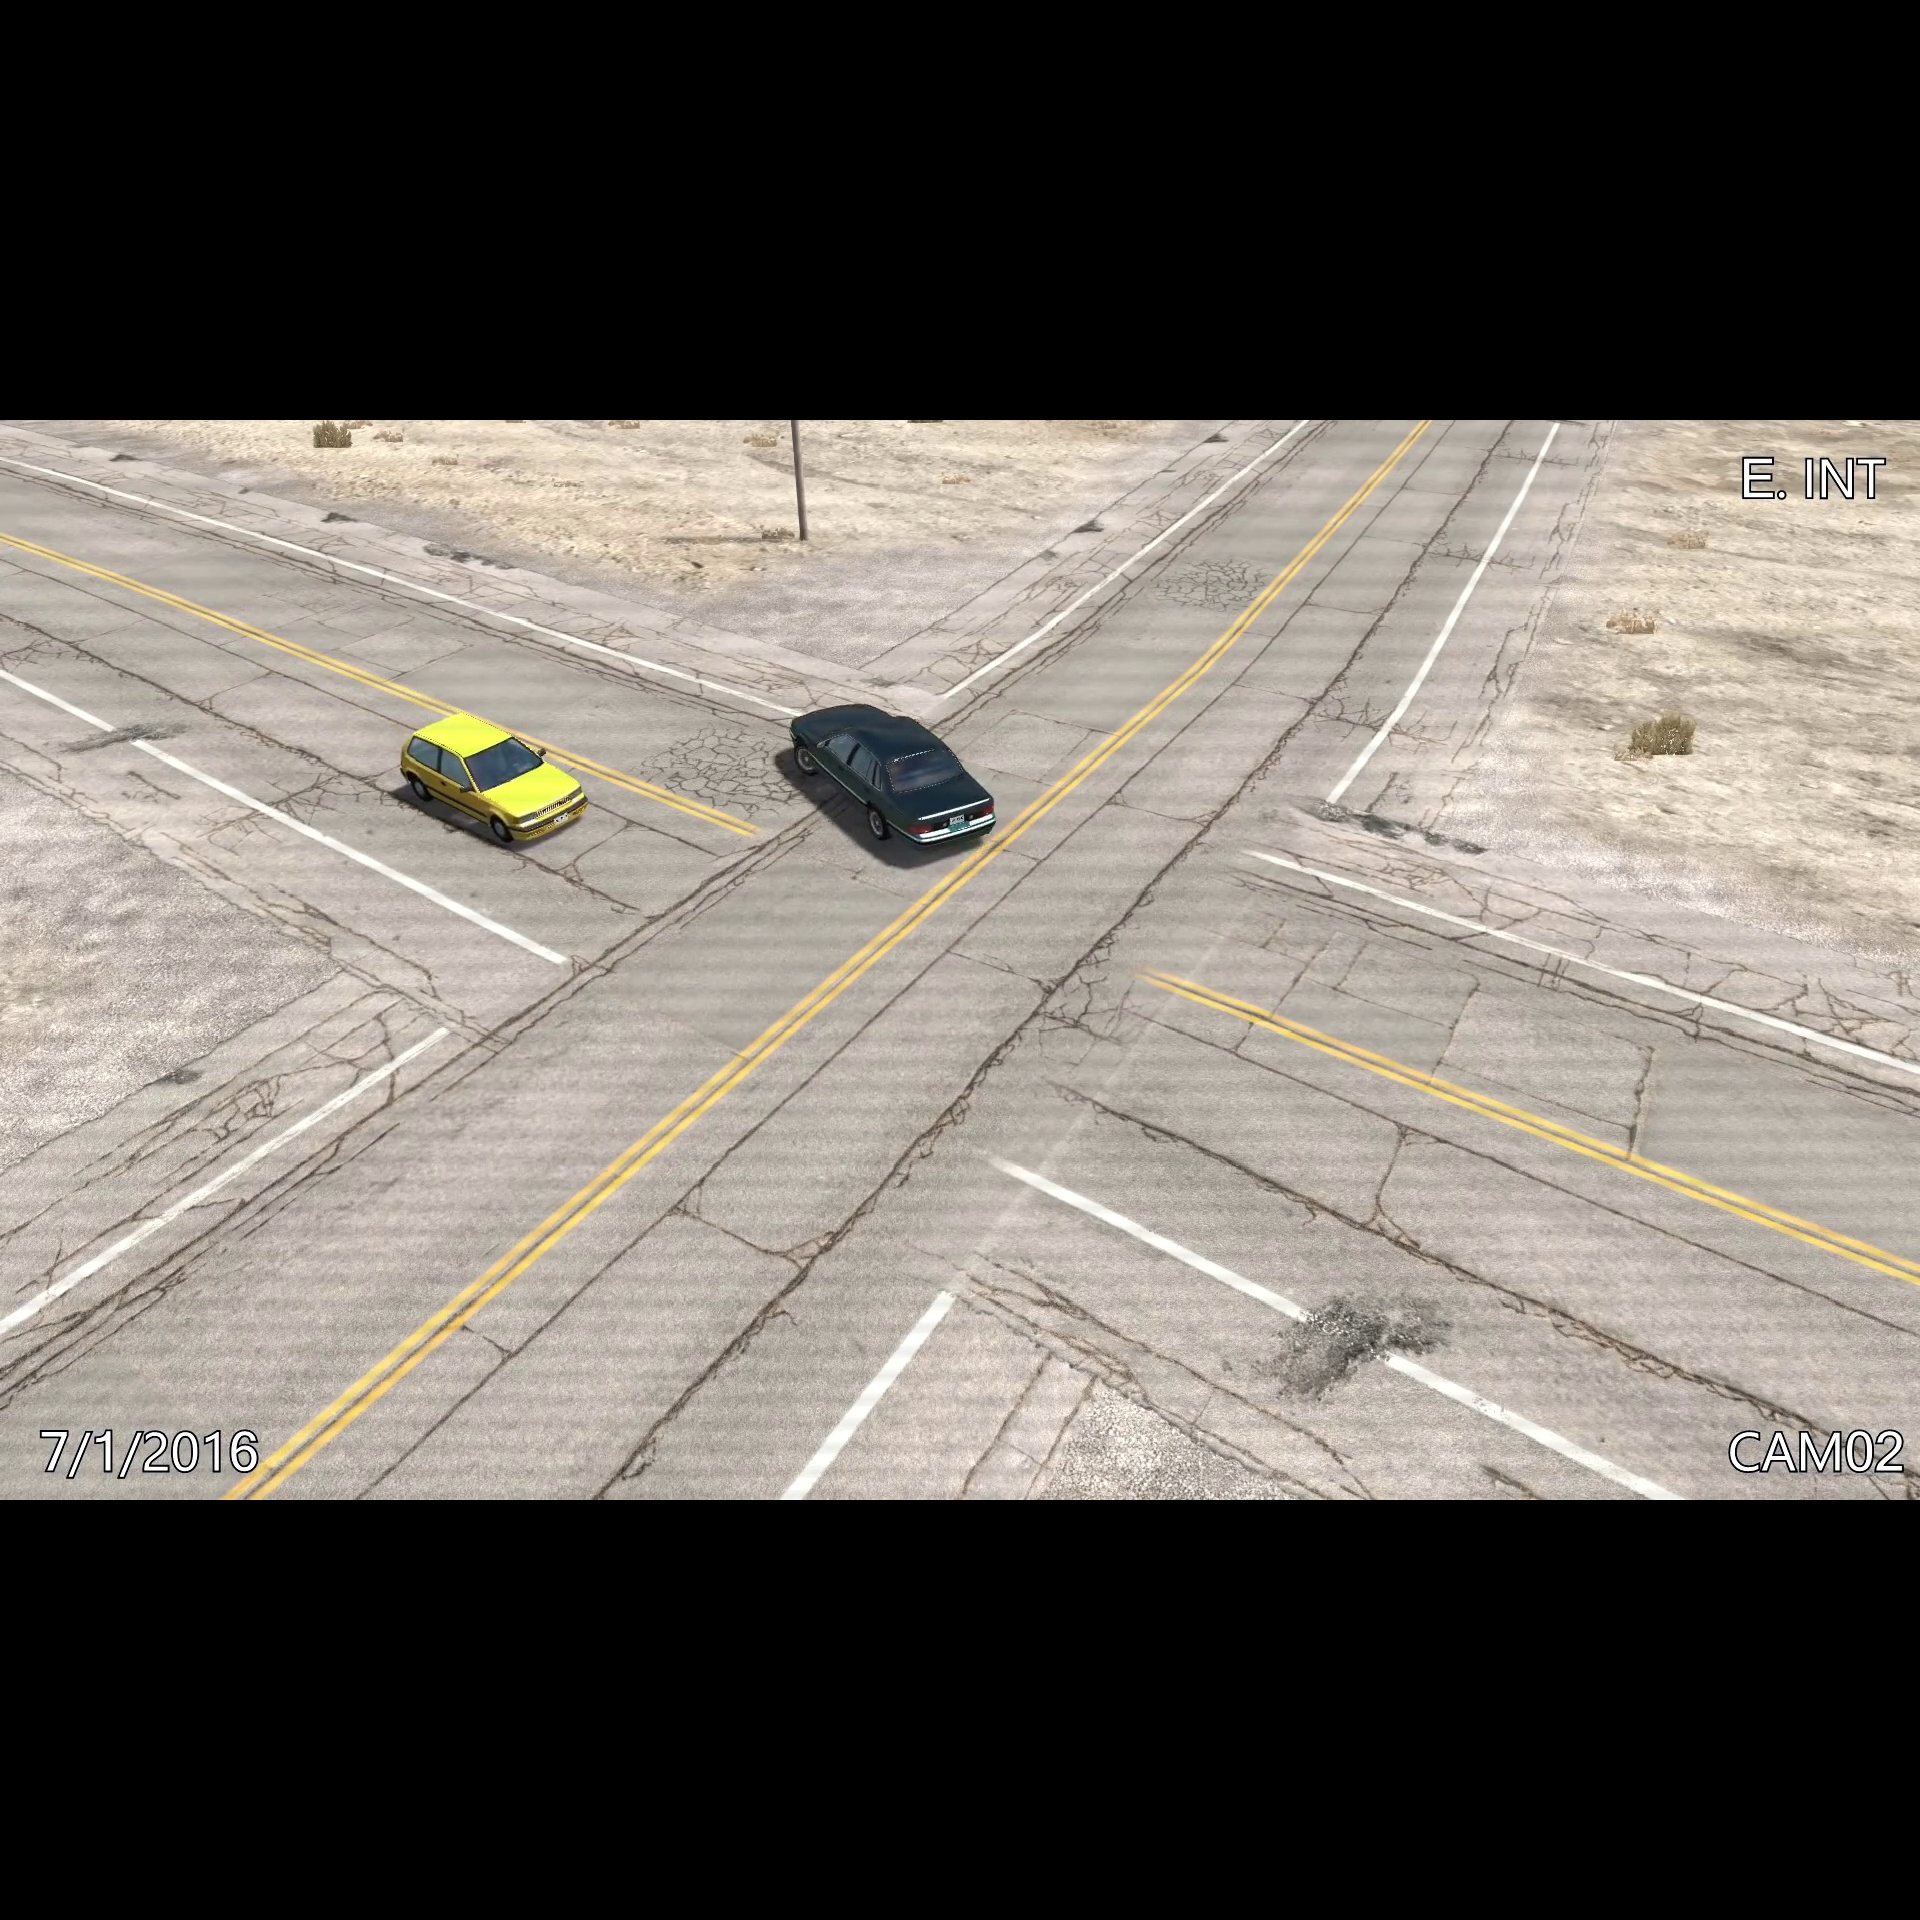vehicle: (781, 689, 1002, 863), (396, 703, 593, 853)
